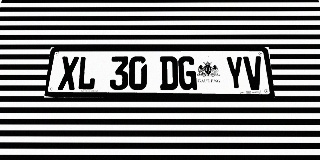0: (128, 56, 147, 90)
3: (109, 56, 129, 90)
D: (160, 56, 178, 90)
G: (178, 56, 197, 90)
L: (76, 56, 97, 90)
V: (243, 56, 265, 90)
X: (58, 56, 79, 90)
Y: (225, 56, 246, 90)
